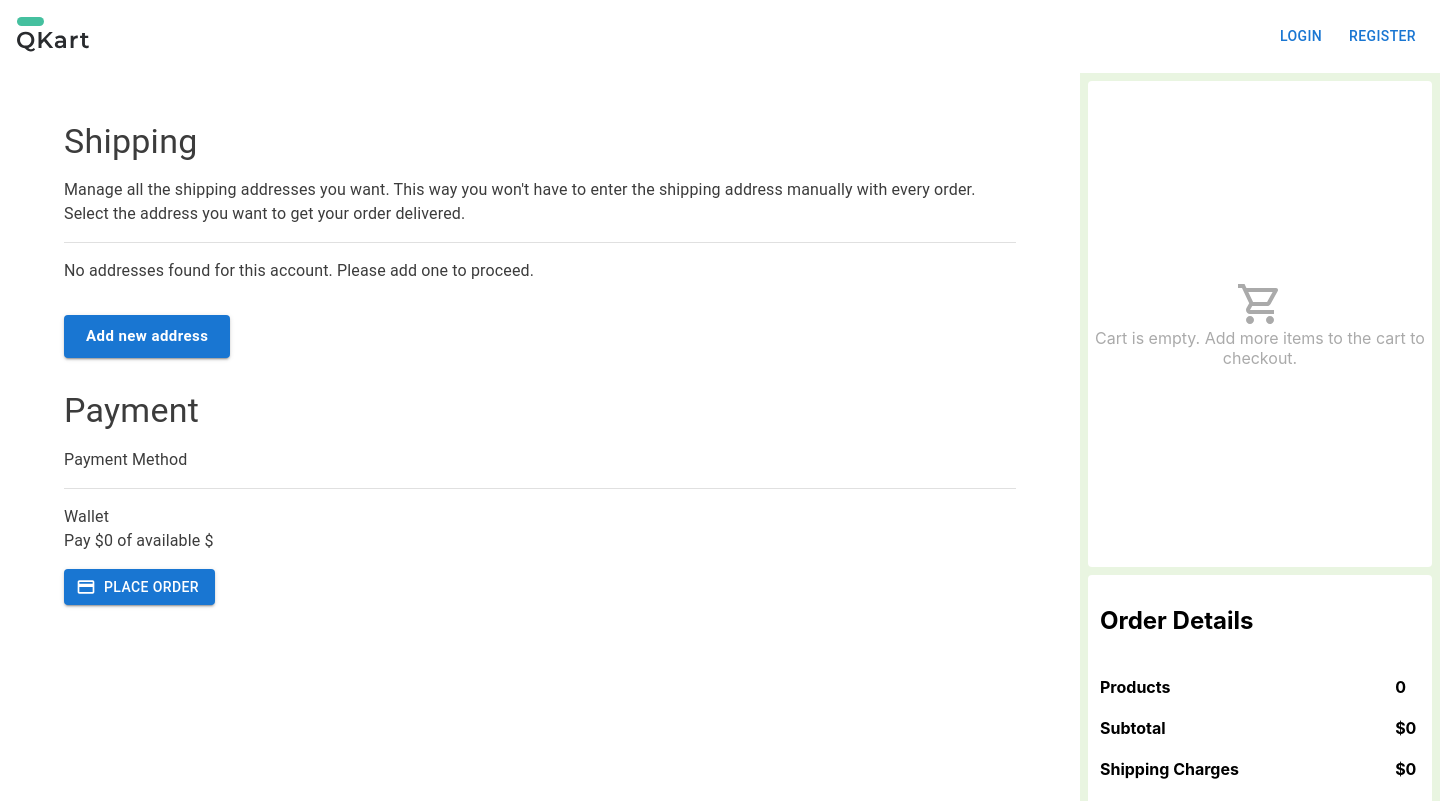
Test: checkout page › Checking with empty address
The width and height of the screenshot is (1440, 801).
Click the button "PLACE ORDER".
click(140, 587)  # box [64, 569, 215, 605]
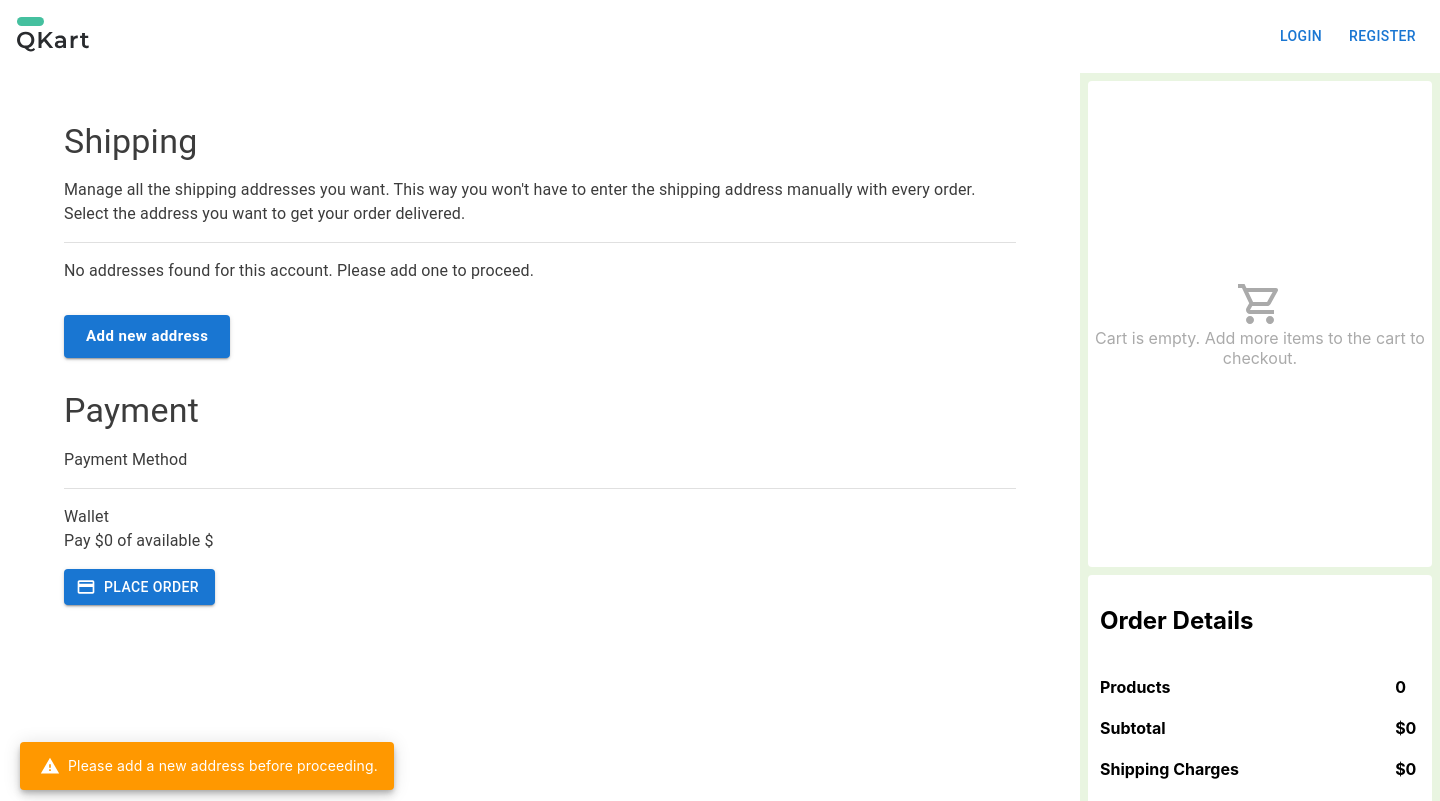
Now the text "Please add a new address before proceeding." is shown, box [40, 756, 378, 776]
